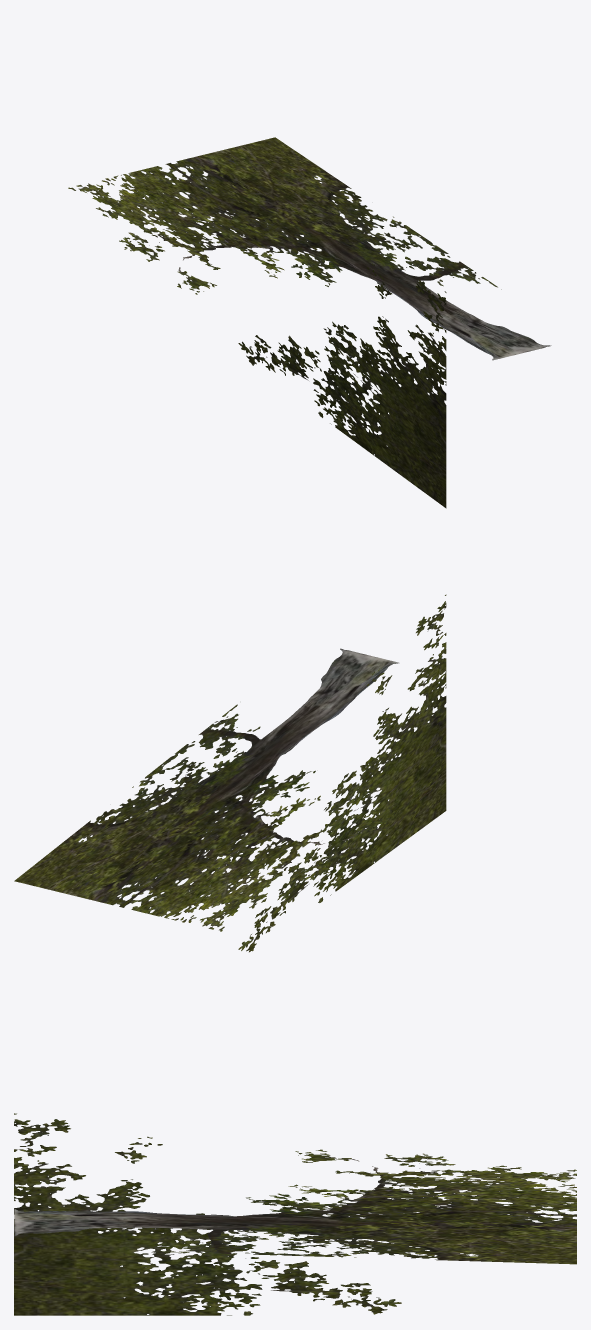
File: Tree1.001_LowDetailWhite.fbx
3 views of the same model, one above another, from view 1: azimuth 30°, elevation 25°; view 2: azimuth 150°, elevation 25°; view 3: azimuth 270°, elevation 25° (orthographic). The views are drawn at different scales.
Parts seen in each view (by area): view 1: Plane.004; view 2: Plane.004; view 3: Plane.004.
Boxes of the visible parts, x1,y1,x2,y2 form: Plane.004: (68, 137, 551, 508); Plane.004: (14, 594, 446, 952); Plane.004: (14, 1113, 576, 1315).
Size of the model in its own units: 312 by 312 by 625.
